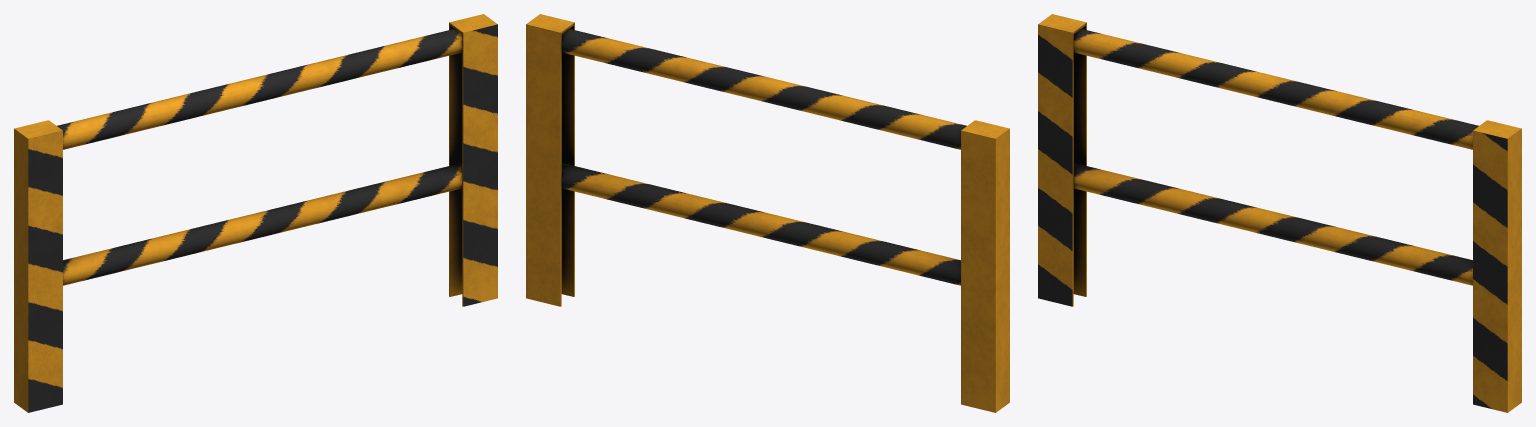
Rendered from fence_2m.obj.
3 views of the same model, side by side, from view 1: azimuth 30°, elevation 25°; view 2: azimuth 150°, elevation 25°; view 3: azimuth 330°, elevation 25° (orthographic).
Parts seen in each view (by area): view 1: Pole_left, Pole_right, Hor._Pole.001, Hor._Pole; view 2: Pole_left, Pole_right, Hor._Pole.001, Hor._Pole; view 3: Pole_right, Pole_left, Hor._Pole.001, Hor._Pole.
Part boxes in pixels (x1=…): Pole_left: x1=14, y1=120, x2=62, y2=412; Pole_right: x1=449, y1=14, x2=497, y2=306; Hor._Pole.001: x1=63, y1=163, x2=462, y2=285; Hor._Pole: x1=57, y1=29, x2=462, y2=149; Pole_left: x1=961, y1=120, x2=1009, y2=412; Pole_right: x1=526, y1=14, x2=574, y2=306; Hor._Pole.001: x1=561, y1=163, x2=960, y2=285; Hor._Pole: x1=561, y1=29, x2=966, y2=149; Pole_right: x1=1473, y1=120, x2=1521, y2=412; Pole_left: x1=1038, y1=14, x2=1086, y2=306; Hor._Pole.001: x1=1073, y1=163, x2=1472, y2=285; Hor._Pole: x1=1073, y1=29, x2=1478, y2=149.
Bounding box in the file's own units: 2.17 × 1.21 × 0.1133.
Materials: 1 (1 with a texture image).
